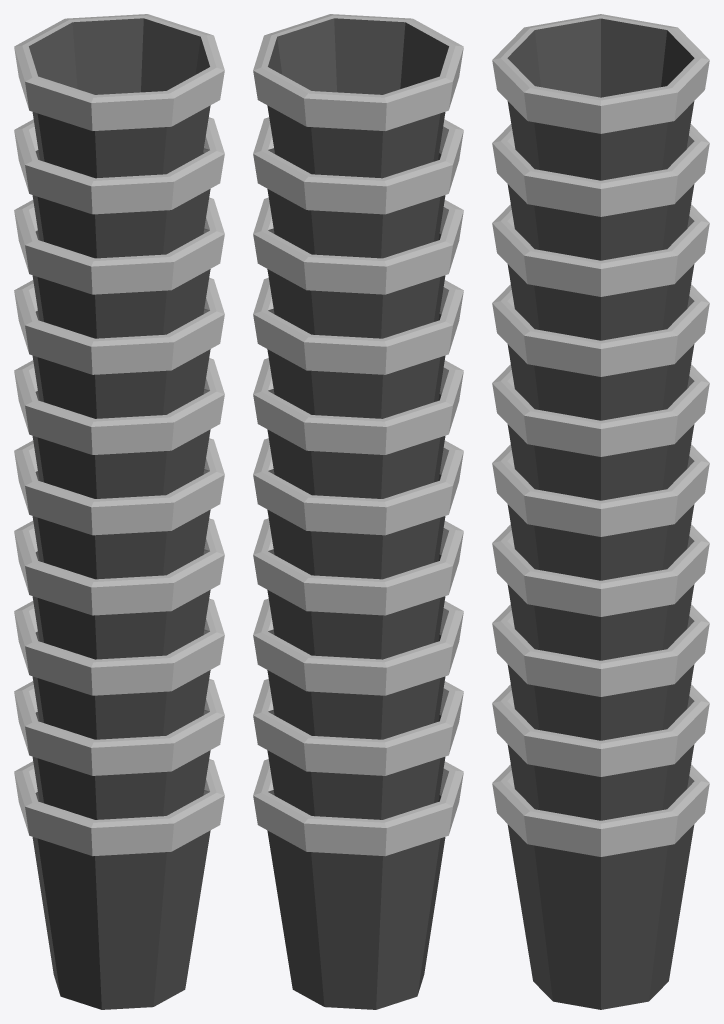
Rendered from TowerGlass.fbx.
3 views of the same model, side by side, from view 1: azimuth 30°, elevation 25°; view 2: azimuth 150°, elevation 25°; view 3: azimuth 270°, elevation 25° (orthographic).
Parts seen in each view (by area): view 1: Glass_Tower; view 2: Glass_Tower; view 3: Glass_Tower.
Boxes of the visible parts, x1,y1,x2,y2 form: Glass_Tower: (14,14,224,1009); Glass_Tower: (253,14,463,1009); Glass_Tower: (492,14,709,1009).
Size of the model in its own units: 12.82 by 60 by 12.82.
